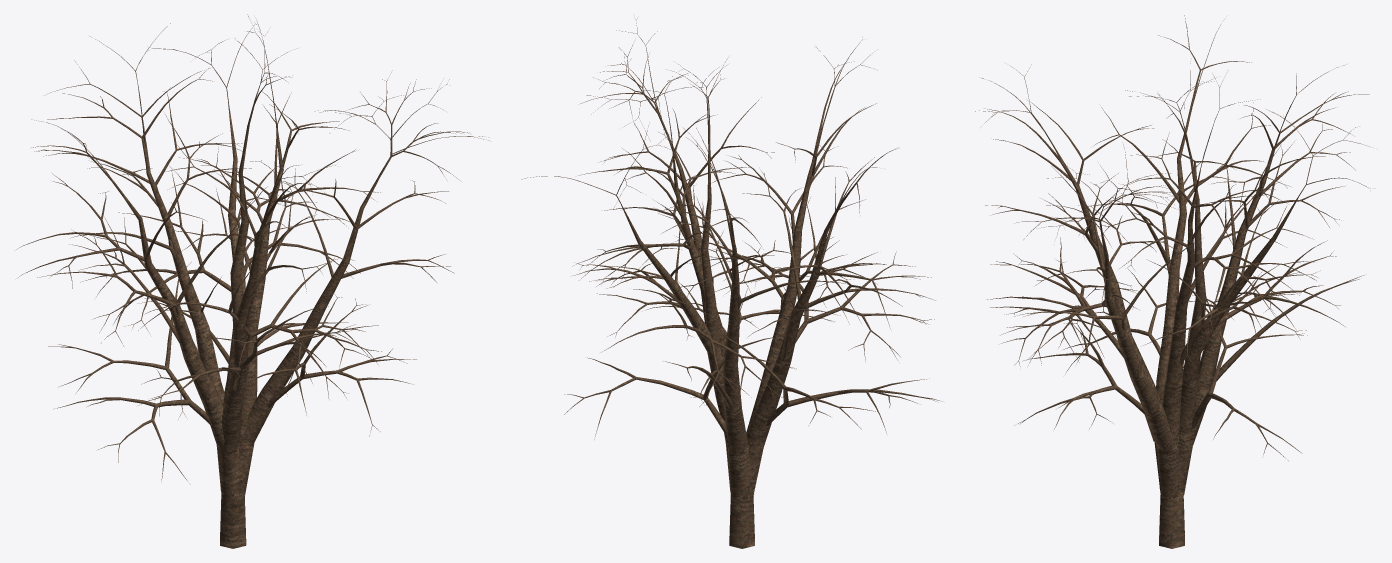
The model's file is DryTree.fbx.
The picture shows the model from 3 angles, left to right: view 1: azimuth 30°, elevation 25°; view 2: azimuth 150°, elevation 25°; view 3: azimuth 270°, elevation 25°; orthographic projection. The views are drawn at different scales.
Parts seen in each view (by area): view 1: DryTree_LOD0; view 2: DryTree_LOD0; view 3: DryTree_LOD0.
Part boxes in pixels (bbox=[...]): DryTree_LOD0: bbox=[16, 14, 489, 548]; DryTree_LOD0: bbox=[521, 18, 942, 548]; DryTree_LOD0: bbox=[975, 15, 1370, 548].
Size of what is drawn, in the model's own units: 1314 by 1602 by 1190.
